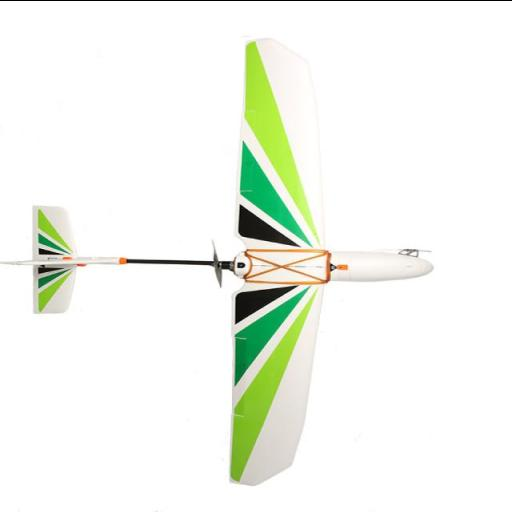uav: (10, 37, 442, 486)
